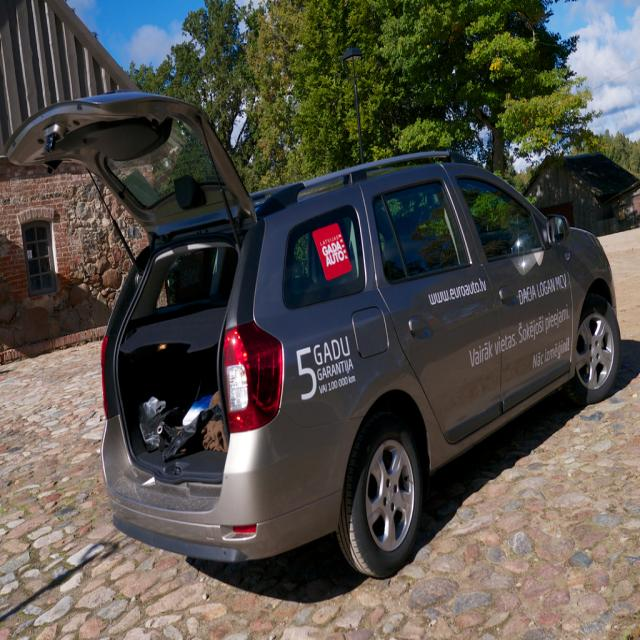car: (10, 62, 639, 594)
